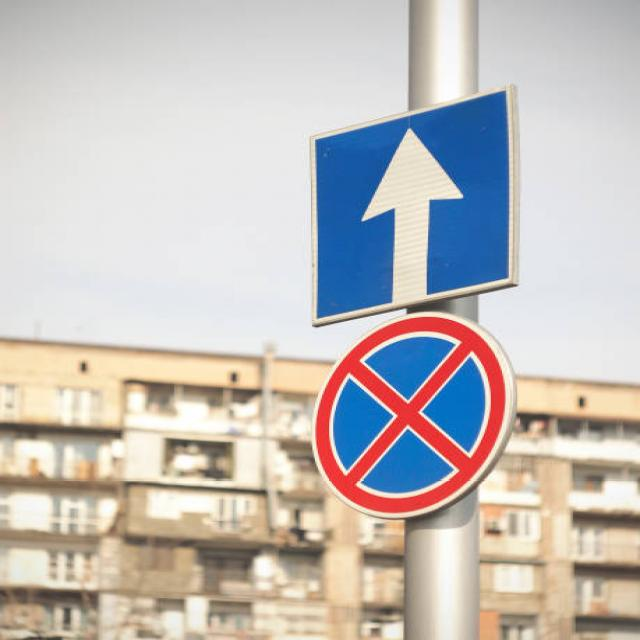no_parking: (296, 310, 524, 526)
